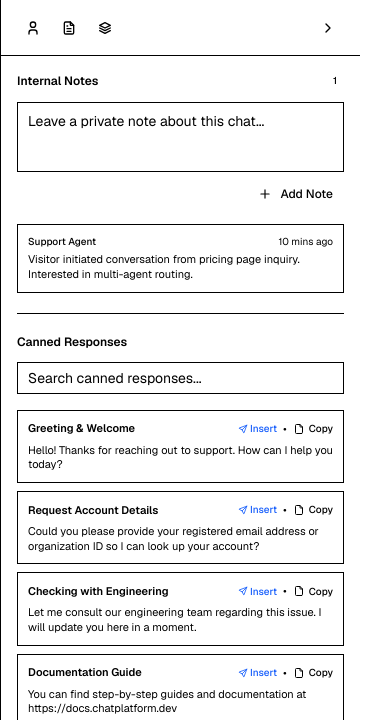
Test: ChatDetails › canned tab › adds a note, ignoring blank ones
Expected: the text "Visitor initiated conversation" is shown, [28, 252, 300, 281]
Submit the form with placeholder "Leave a private note about this chat...", box [17, 102, 344, 208]
Type "  Call back tomorrow  " into the text box with placeholder "Leave a private note about this chat..." at (180, 137), box [17, 102, 344, 172]
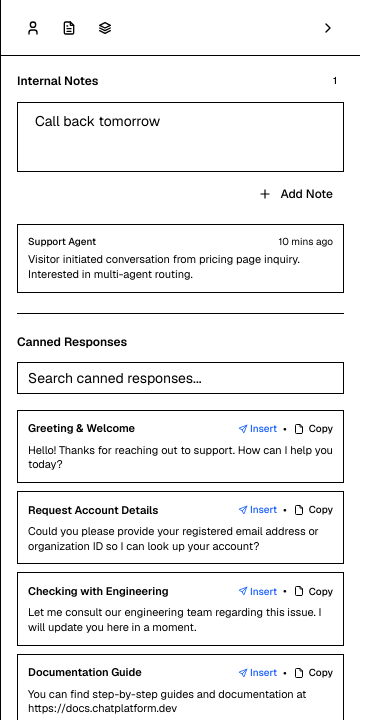
Click the button "Add Note" at (296, 194), box [247, 180, 344, 208]
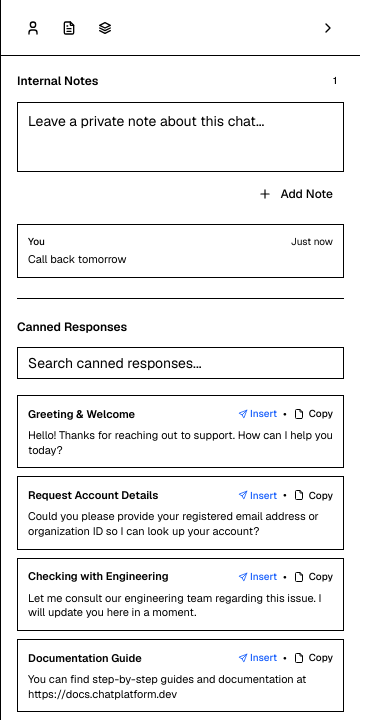
Expected: the text "Call back tomorrow" is shown, [28, 252, 126, 266]
Expected: the text "Just now" is shown, [291, 235, 333, 248]
Expected: the text box with placeholder "Leave a private note about this chat..." is empty, [17, 102, 344, 172]
